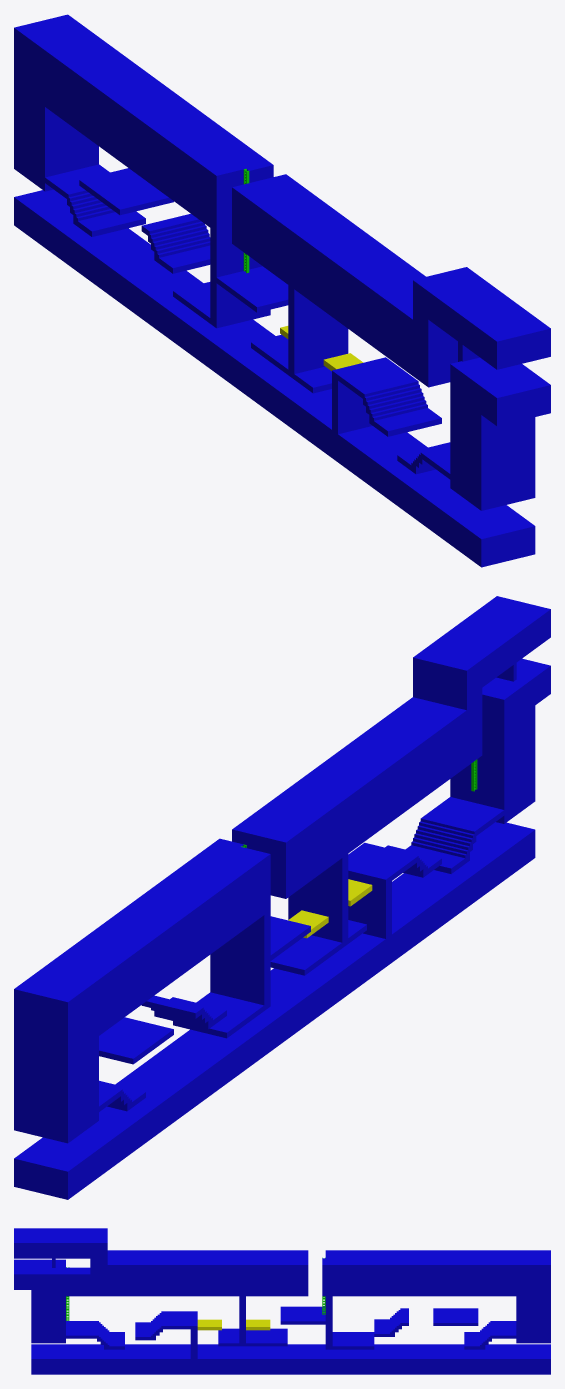
The model's file is Level_3_scene18_colored.fbx.
3 views of the same model, one above another, from view 1: azimuth 30°, elevation 25°; view 2: azimuth 150°, elevation 25°; view 3: azimuth 270°, elevation 25° (orthographic). The views are drawn at different scales.
Visible parts, largest first — view 1: Cube.015, Cube.071, Cube.062, Cube.075, Cube.076, Cube.074, Cube.070; view 2: Cube.015, Cube.062, Cube.071, Cube.070, Cube.074, Cube.075, Cube.076; view 3: Cube.015, Cube.062, Cube.071, Cube.070, Cube.076, Cube.074, Cube.009, Cube.075, Cube.013, Cube.001.
Boxes of the visible parts, x1,y1,x2,y2 form: Cube.015: (14,14,550,567); Cube.071: (332,357,441,436); Cube.062: (251,285,348,393); Cube.075: (141,213,210,273); Cube.076: (45,164,145,236); Cube.074: (79,168,173,215); Cube.070: (397,442,450,479); Cube.015: (14,596,550,1199); Cube.062: (270,854,366,975); Cube.071: (348,842,441,938); Cube.070: (405,797,504,873); Cube.074: (99,1017,173,1064); Cube.075: (141,995,226,1029); Cube.076: (99,1080,145,1111); Cube.015: (14,1228,550,1374); Cube.062: (218,1296,287,1346); Cube.071: (135,1311,197,1358); Cube.070: (66,1321,124,1349); Cube.076: (464,1321,516,1349); Cube.074: (433,1308,478,1325); Cube.009: (66,1267,90,1296); Cube.075: (374,1308,408,1336); Cube.013: (197,1319,221,1330); Cube.001: (246,1319,270,1330).
Size of the model in its own units: 1000 by 4200 by 15500.
